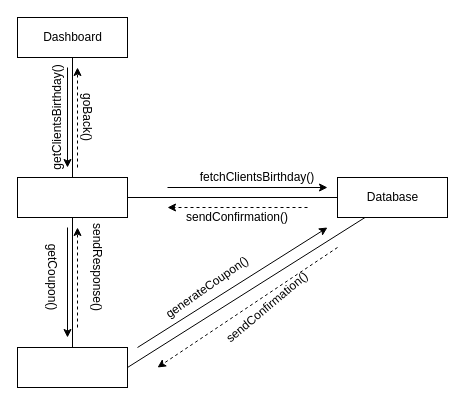
The diagram is 465 pixels wide and 405 high, and some of its shapes have lost their labels. Each missing label, with the centre of its shape:
"Birthday Client" belongs at point 72,197.
"Coupon" belongs at point 72,367.
